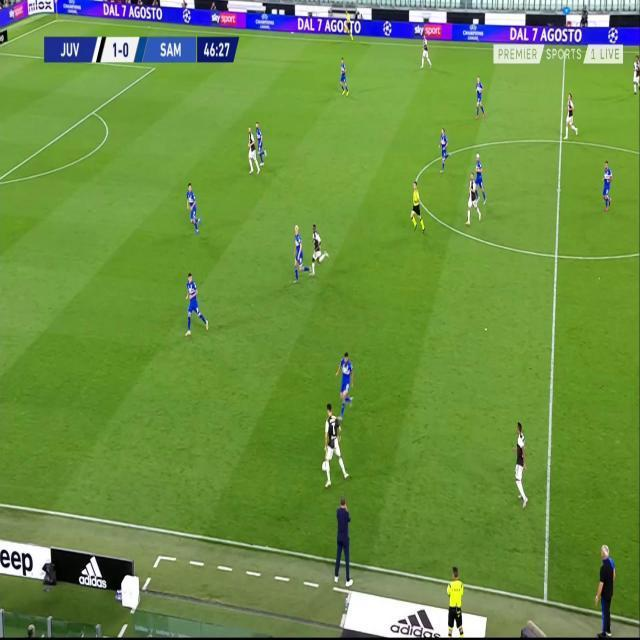ball: (321, 461, 326, 473)
player: (321, 402, 348, 489), (511, 417, 531, 507), (184, 270, 209, 337), (334, 348, 354, 421), (293, 222, 312, 283), (308, 221, 329, 275), (465, 171, 481, 225), (186, 180, 201, 235), (600, 158, 614, 212), (563, 91, 578, 139), (474, 151, 487, 206), (246, 128, 260, 175), (254, 120, 267, 169), (438, 126, 451, 173), (474, 74, 486, 120), (338, 55, 350, 97), (420, 31, 432, 69), (630, 52, 639, 96)
referee: (445, 561, 466, 638), (410, 177, 426, 233), (343, 8, 354, 41)
